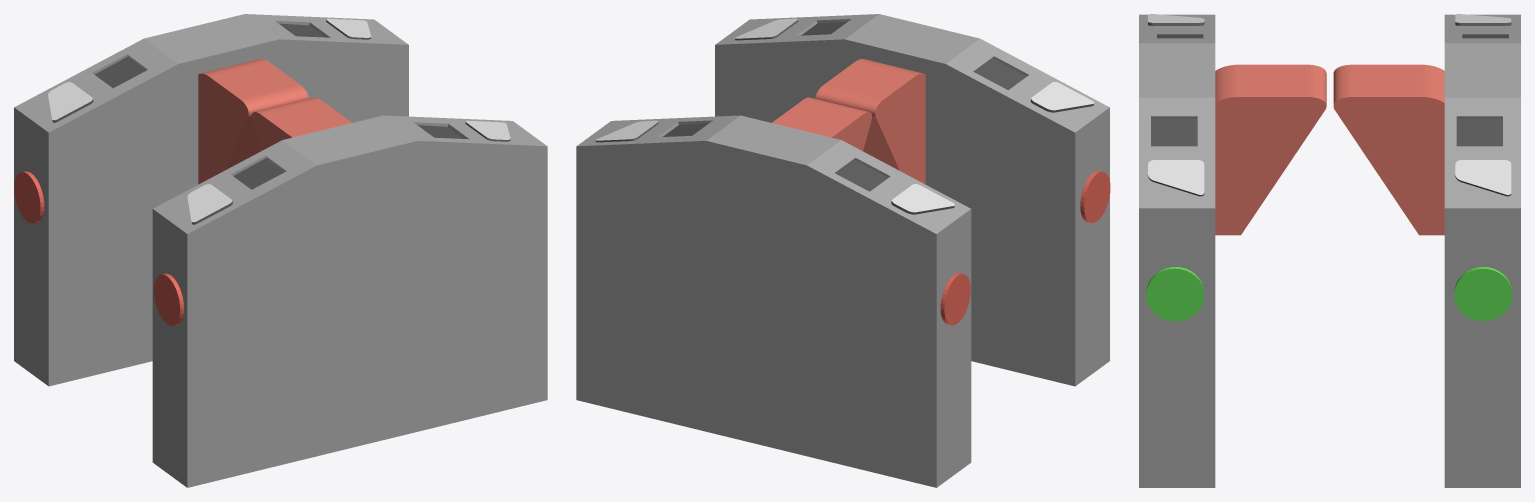
File: Gantry.gltf
3 renders of one model, left to right at view 1: azimuth 30°, elevation 25°; view 2: azimuth 150°, elevation 25°; view 3: azimuth 270°, elevation 25°, orthographic. The views are drawn at different scales.
Parts seen in each view (by area): view 1: Cube.005, Cube.004, Cube.006, Cube.007, Circle.011, Circle.009, Plane.007, Plane.006, Plane.004, Plane.005; view 2: Cube.004, Cube.005, Cube.007, Cube.006, Circle.009, Circle.011, Plane.007, Plane.006, Plane.005, Plane.004; view 3: Cube.004, Cube.005, Cube.007, Cube.006, Circle.008, Circle.010, Plane.004, Plane.005, Plane.007, Plane.006.
Part boxes in pixels (x1,y1,x2,y2): Cube.005: (152, 115, 547, 487); Cube.004: (14, 14, 408, 386); Cube.006: (198, 59, 308, 184); Cube.007: (252, 97, 351, 151); Circle.011: (14, 171, 44, 223); Circle.009: (154, 273, 183, 325); Plane.007: (187, 184, 232, 224); Plane.006: (48, 82, 93, 122); Plane.004: (465, 120, 510, 141); Plane.005: (326, 18, 371, 39); Cube.004: (576, 115, 971, 487); Cube.005: (715, 14, 1109, 386); Cube.007: (815, 59, 925, 184); Cube.006: (772, 97, 871, 150); Circle.009: (1080, 170, 1110, 223); Circle.011: (940, 273, 970, 325); Plane.007: (1030, 82, 1094, 112); Plane.006: (891, 184, 954, 214); Plane.005: (595, 120, 658, 142); Plane.004: (734, 18, 797, 40); Cube.004: (1444, 14, 1520, 487); Cube.005: (1139, 14, 1215, 487); Cube.007: (1215, 64, 1326, 235); Cube.006: (1333, 64, 1444, 235); Circle.008: (1146, 267, 1204, 321); Circle.010: (1454, 267, 1512, 321); Plane.004: (1148, 160, 1204, 196); Plane.005: (1455, 160, 1511, 196); Plane.007: (1148, 14, 1204, 25); Plane.006: (1455, 14, 1511, 25).
Size of the model in its own units: 12.25 by 9.26 by 10.
